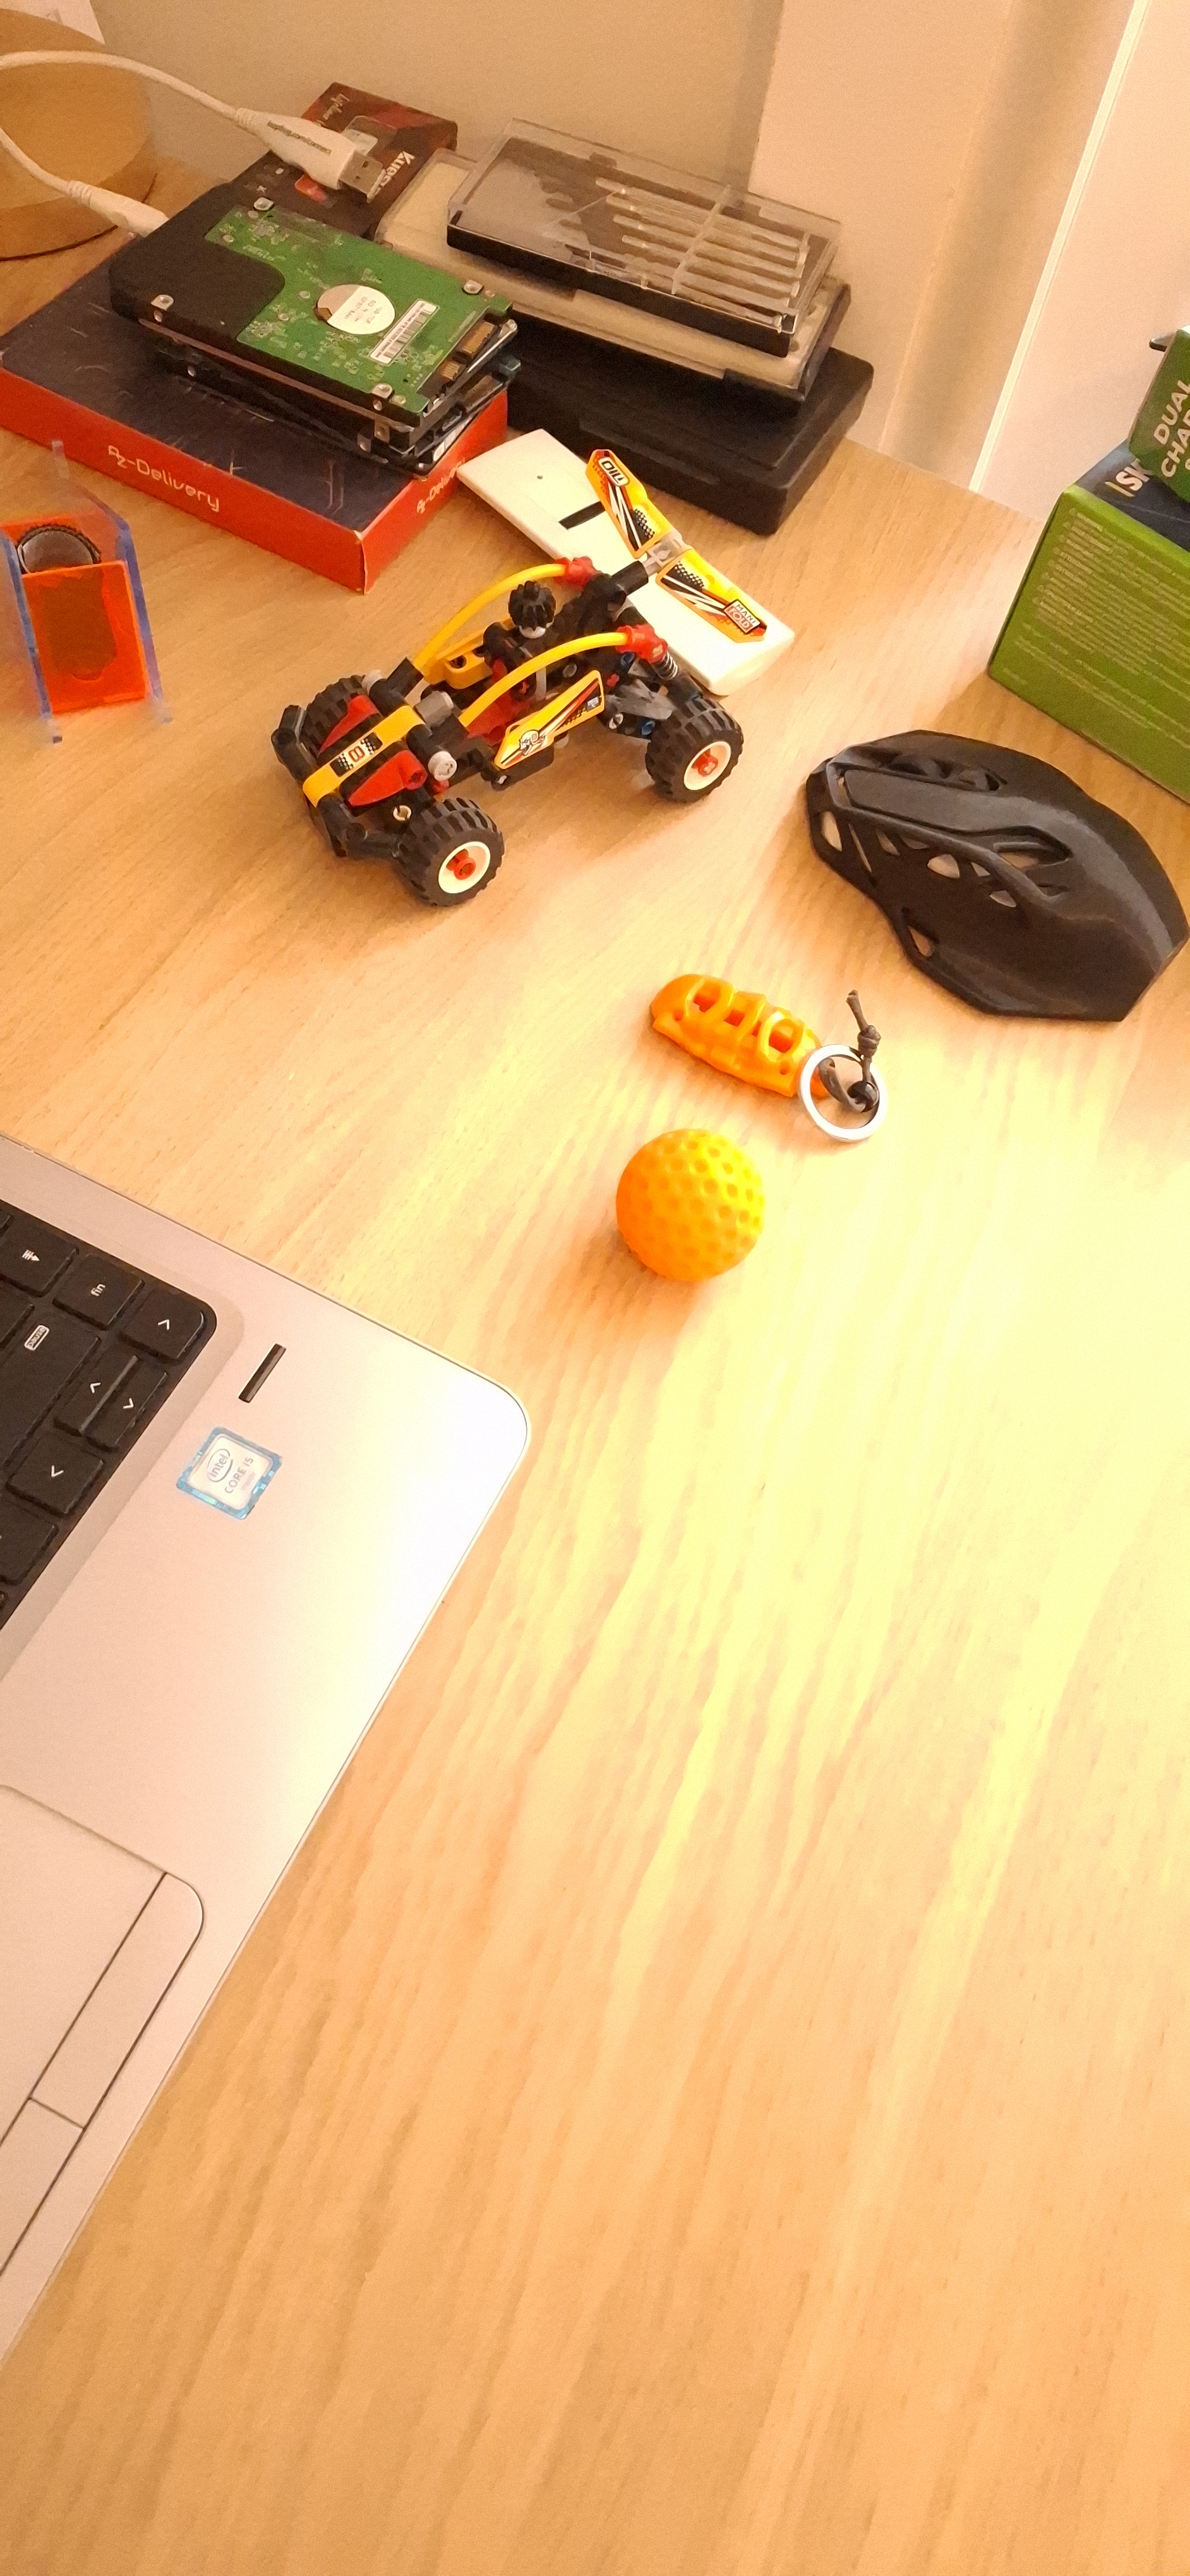ball: (521, 908, 593, 1247)
